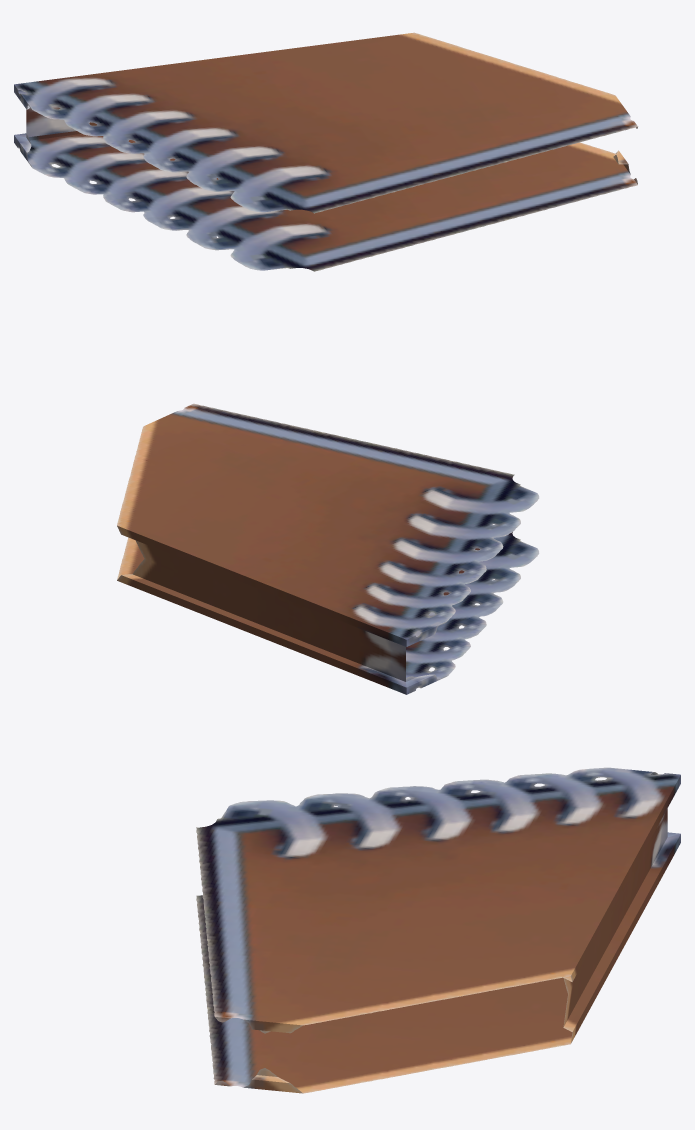
File: note.fbx
3 views of the same model, one above another, from view 1: azimuth 30°, elevation 25°; view 2: azimuth 150°, elevation 25°; view 3: azimuth 270°, elevation 25° (orthographic). The views are drawn at different scales.
Parts seen in each view (by area): view 1: note; view 2: note; view 3: note.
Boxes of the visible parts, x1,y1,x2,y2 form: note: (14,32,637,271); note: (117,403,539,694); note: (196,767,680,1093).
Bounding box in the file's own units: 0.5613 × 0.0999 × 0.4938.
